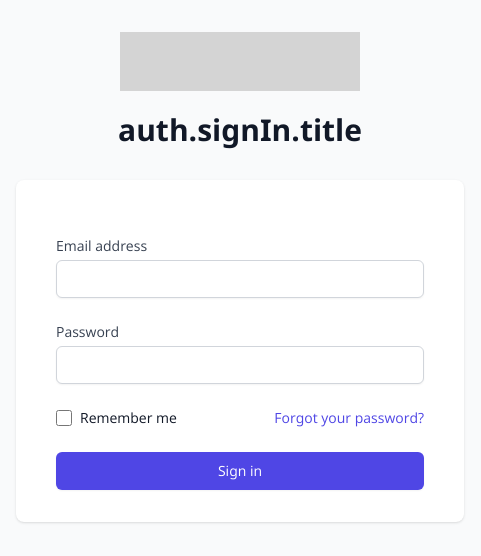
Test: Sign in › should not display error when value is valid but promise rejected
The width and height of the screenshot is (481, 556).
Type "demo@mail.com" into the field labelled "Email address" at point(240, 279), box [56,260,424,298]
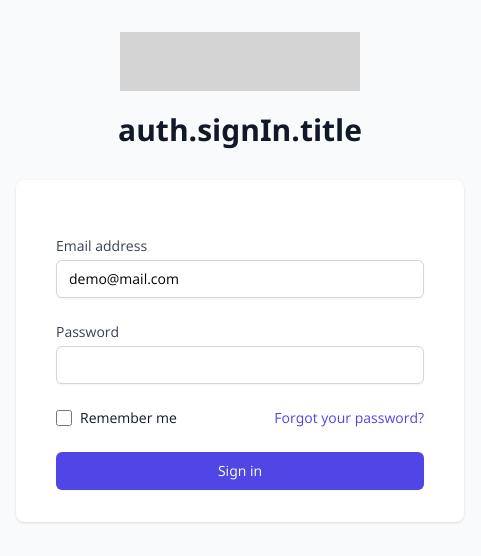
Type "123456" into the password field labelled "Password" at point(240, 365), box [56,346,424,384]
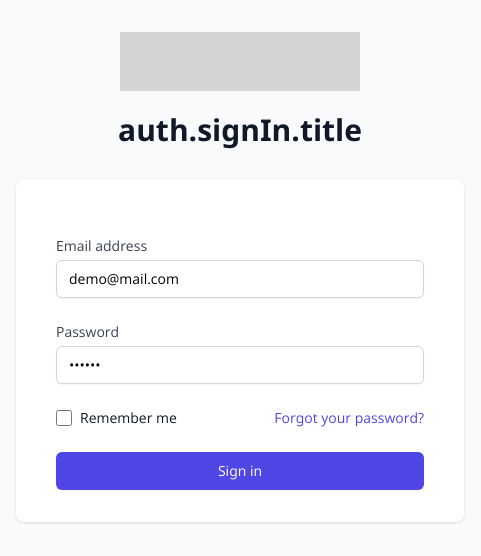
Submit the form from the button "Sign in", box [56,452,424,490]
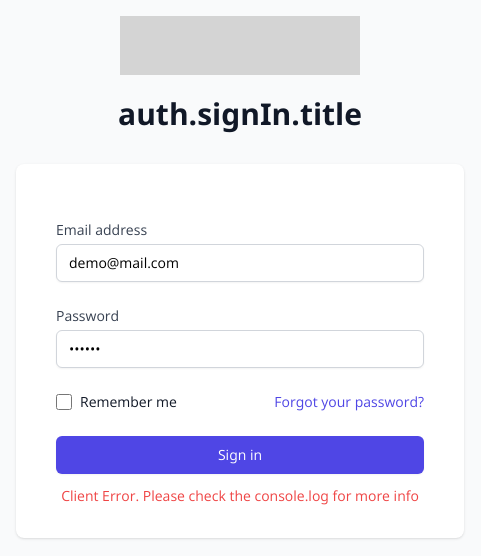
Expected: the text "Client Error. Please check the console.log for more info" is shown, [56,486,424,506]
